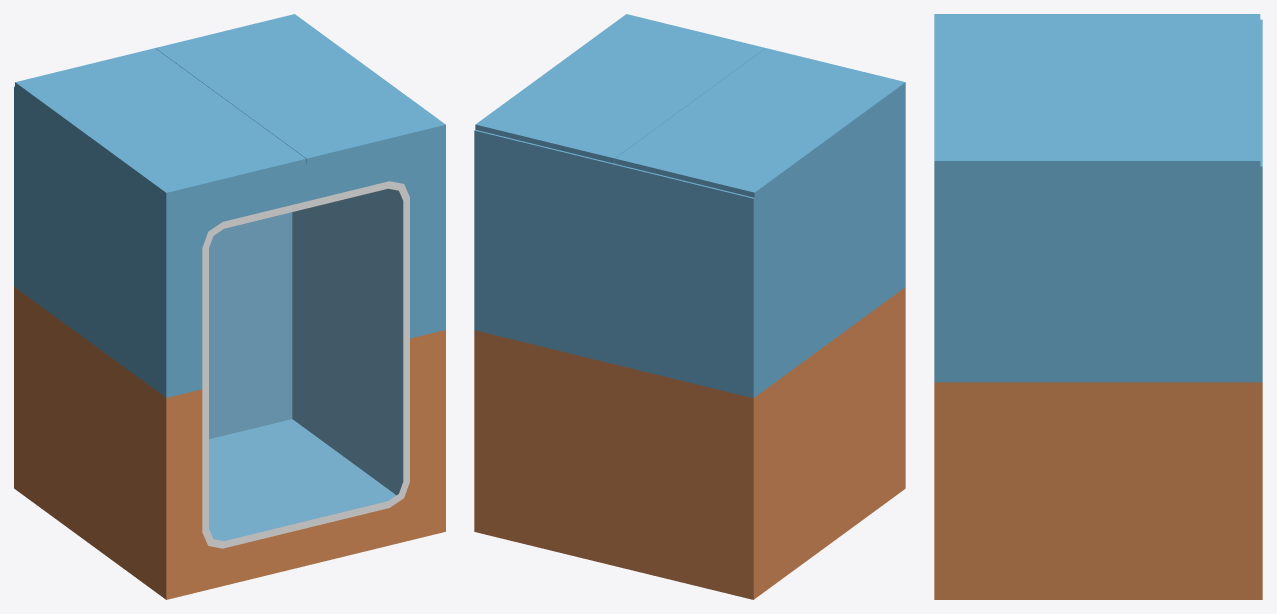
File: ayiKutu.fbx
The picture shows the model from 3 angles, left to right: view 1: azimuth 30°, elevation 25°; view 2: azimuth 150°, elevation 25°; view 3: azimuth 270°, elevation 25°; orthographic projection. The views are drawn at different scales.
Visible parts, largest first — view 1: kutu.002, kapak.003, kapak.004; view 2: kutu.002, kapak.003, kapak.004; view 3: kutu.002, kapak.004, kapak.003.
Boxes of the visible parts, x1,y1,x2,y2 form: kutu.002: (14, 86, 445, 599); kapak.003: (15, 48, 306, 197); kapak.004: (155, 14, 445, 163); kutu.002: (474, 87, 905, 599); kapak.003: (615, 48, 905, 197); kapak.004: (475, 14, 765, 163); kutu.002: (934, 19, 1262, 599); kapak.004: (934, 87, 1260, 166); kapak.003: (934, 14, 1260, 87).
Size of the model in its own units: 239 by 332 by 226.
